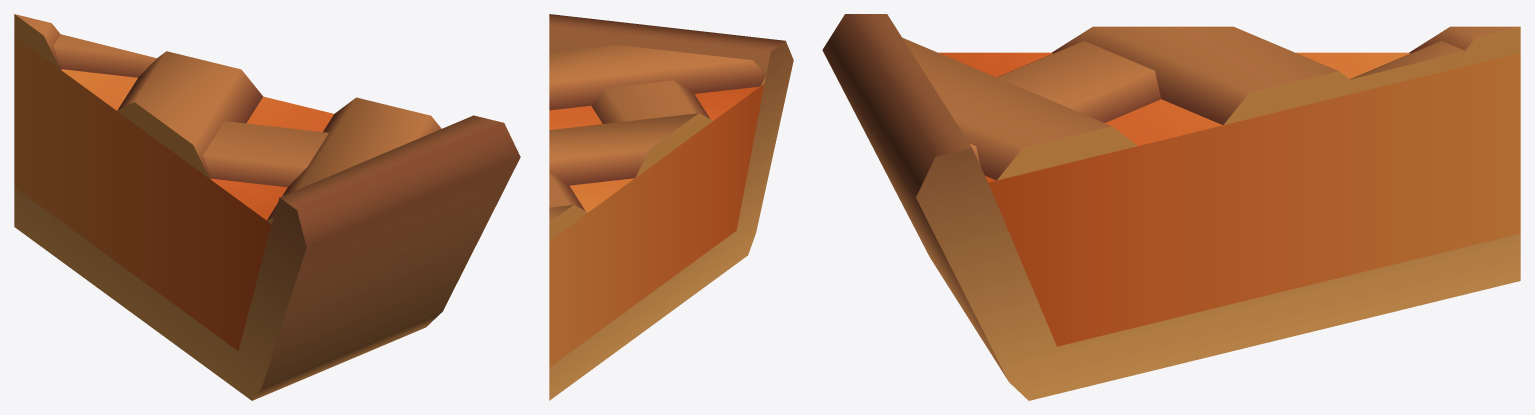
Rendered from m_AmericanPie04_Slice01.fbx.
3 renders of one model, left to right at view 1: azimuth 30°, elevation 25°; view 2: azimuth 150°, elevation 25°; view 3: azimuth 270°, elevation 25°, orthographic. The views are drawn at different scales.
Visible parts, largest first — view 1: m_AmericanPie04_Slice01; view 2: m_AmericanPie04_Slice01; view 3: m_AmericanPie04_Slice01.
Boxes of the visible parts, x1,y1,x2,y2 form: m_AmericanPie04_Slice01: (14, 14, 520, 400); m_AmericanPie04_Slice01: (549, 14, 793, 400); m_AmericanPie04_Slice01: (822, 14, 1520, 400).
Size of the model in its own units: 7 by 5.91 by 14.
